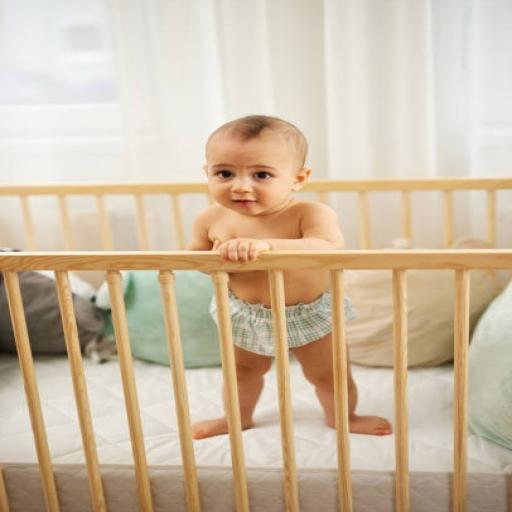baby: (188, 115, 343, 261)
crib: (0, 178, 511, 511)
